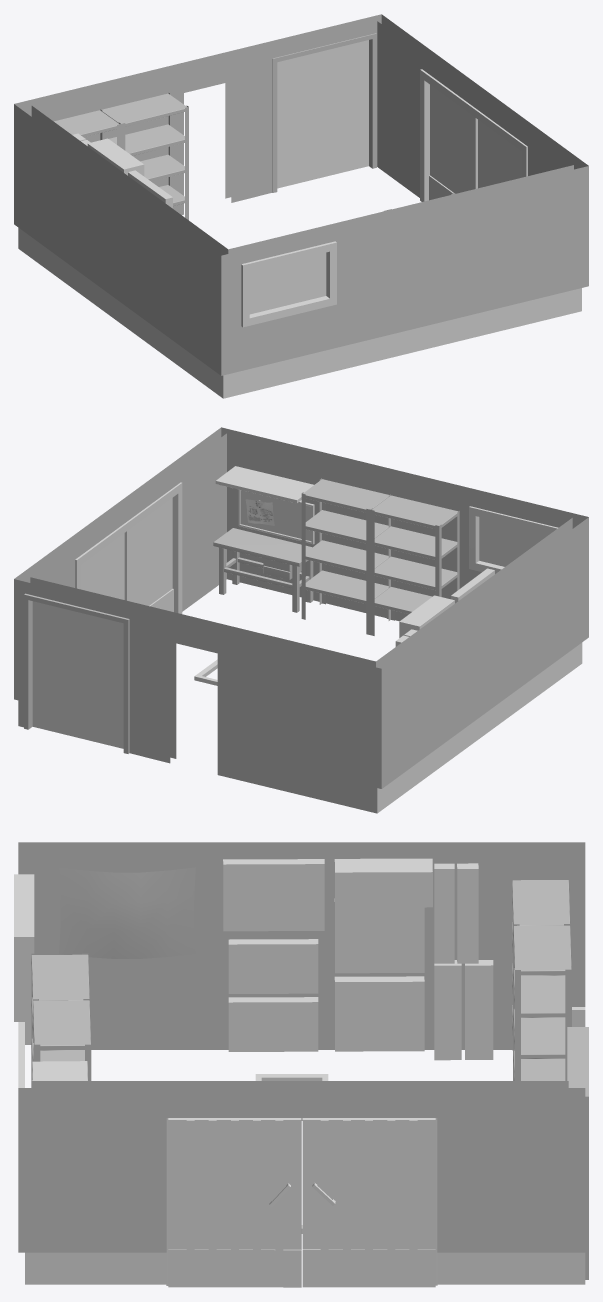
Rendered from GarageFixed.fbx.
The picture shows the model from 3 angles, top to bottom: view 1: azimuth 30°, elevation 25°; view 2: azimuth 150°, elevation 25°; view 3: azimuth 270°, elevation 25°; orthographic projection. The views are drawn at different scales.
Parts seen in each view (by area): view 1: GarageExterior, GarageInterior, GarageGlass1, GarageMetal, GarageShelf3, GarageDoorRight, GarageGlass2, GarageDoorLeft, TriggerBootlid, TriggerHood; view 2: GarageExterior, GarageInterior, GarageShelf1, GarageGlass1, GarageMetal, GarageDoorLeft, GarageTable, GarageGlass2, GarageDashboard, GarageDoorRight, GarageShelf2, TriggerBootlid (+1 smaller); view 3: GarageExterior, GarageInterior, GarageDoorLeft, GarageDoorRight, GarageFlag, GarageShelf3, TriggerHood, TriggerDoor_L, GarageMetal, GarageShelf1, TriggerDoor_R, TriggerFender_L (+7 smaller).
Boxes of the visible parts, box(x1,y1,x2,y2) form: GarageExterior: box(14, 14, 588, 398); GarageInterior: box(31, 21, 573, 255); GarageGlass1: box(277, 40, 368, 188); GarageMetal: box(241, 33, 527, 327); GarageShelf3: box(54, 93, 188, 220); GarageDoorRight: box(429, 85, 479, 200); GarageGlass2: box(249, 252, 326, 314); GarageDoorLeft: box(479, 121, 521, 187); TriggerBootlid: box(87, 138, 144, 176); TriggerHood: box(128, 170, 172, 208); GarageExterior: box(14, 427, 588, 813); GarageInterior: box(30, 433, 572, 758); GarageShelf1: box(301, 478, 459, 635); GarageGlass1: box(32, 601, 123, 748); GarageMetal: box(24, 482, 558, 753); GarageDoorLeft: box(123, 498, 173, 611); GarageTable: box(213, 528, 313, 612); GarageGlass2: box(479, 517, 549, 566); GarageDashboard: box(238, 489, 314, 544); GarageDoorRight: box(81, 534, 123, 599); GarageShelf2: box(215, 466, 313, 503); TriggerBootlid: box(399, 595, 454, 637); GarageExterior: box(18, 842, 585, 1284); GarageInterior: box(31, 850, 568, 1087); GarageDoorLeft: box(168, 1118, 301, 1287); GarageDoorRight: box(302, 1118, 435, 1287); GarageFlag: box(59, 867, 195, 958); GarageShelf3: box(512, 878, 571, 1080); TriggerHood: box(223, 859, 324, 931); TriggerDoor_L: box(334, 976, 424, 1051); GarageMetal: box(14, 874, 588, 1285); GarageShelf1: box(31, 953, 91, 1080); TriggerDoor_R: box(334, 898, 424, 973); TriggerFender_L: box(228, 997, 318, 1051).
Bounding box in the file's own units: 712 × 273 × 698.
